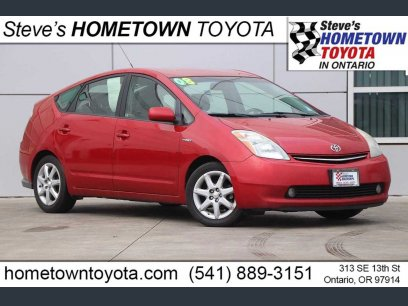Toyota Prius: (18, 65, 392, 228)
